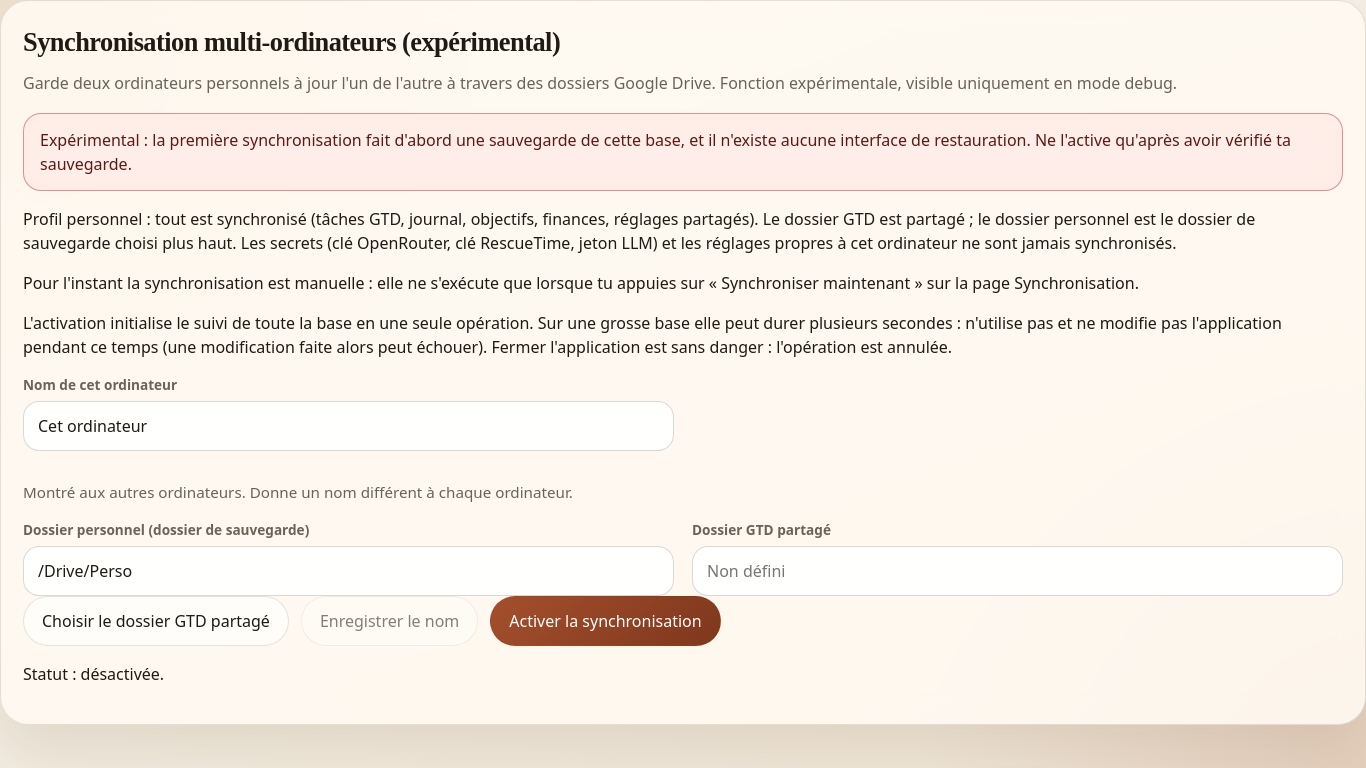
Test: choosing the shared GTD folder › saves a folder that is apart from the backup folder
Click the button "Choisir le dossier GTD partagé": (156, 621) 23,596 -> 289,646
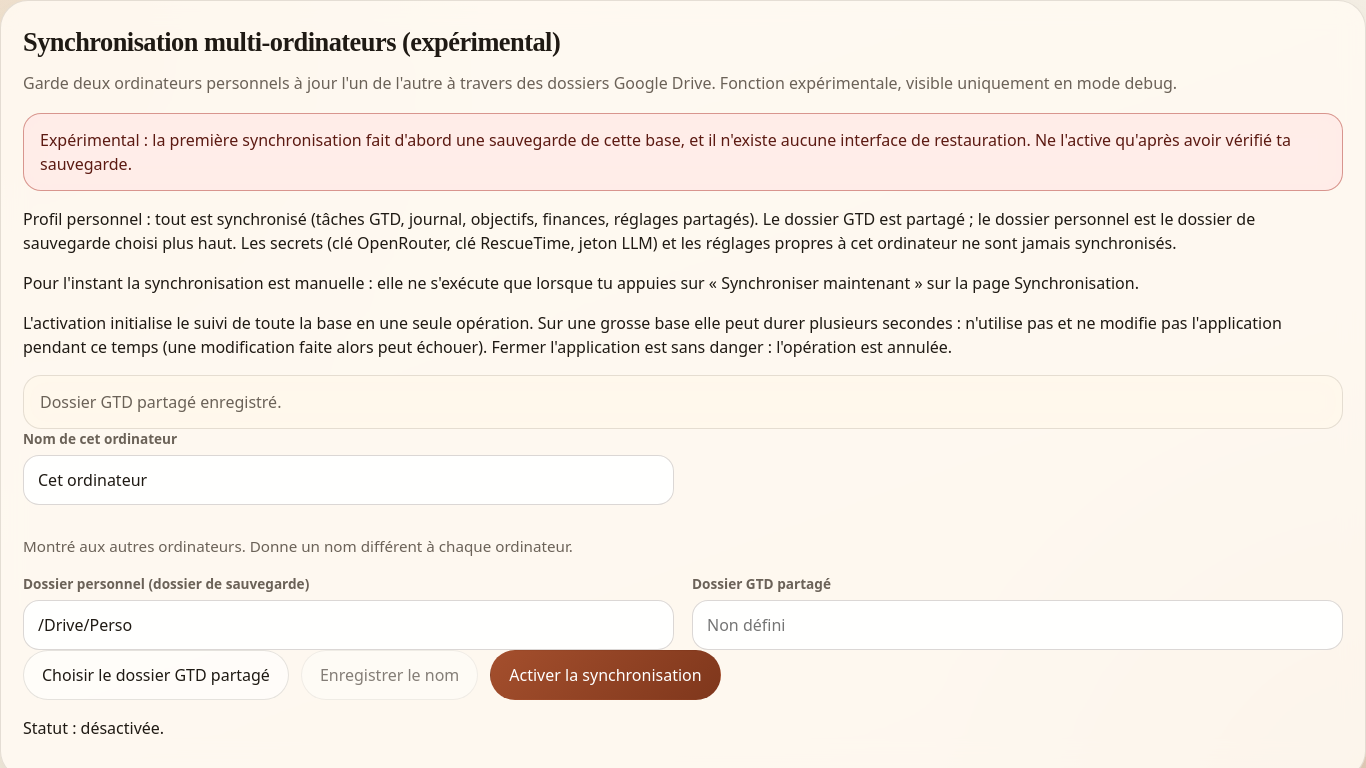
Expected: the text "Dossier GTD partagé enregistré." is shown, 23,375 -> 1343,429
